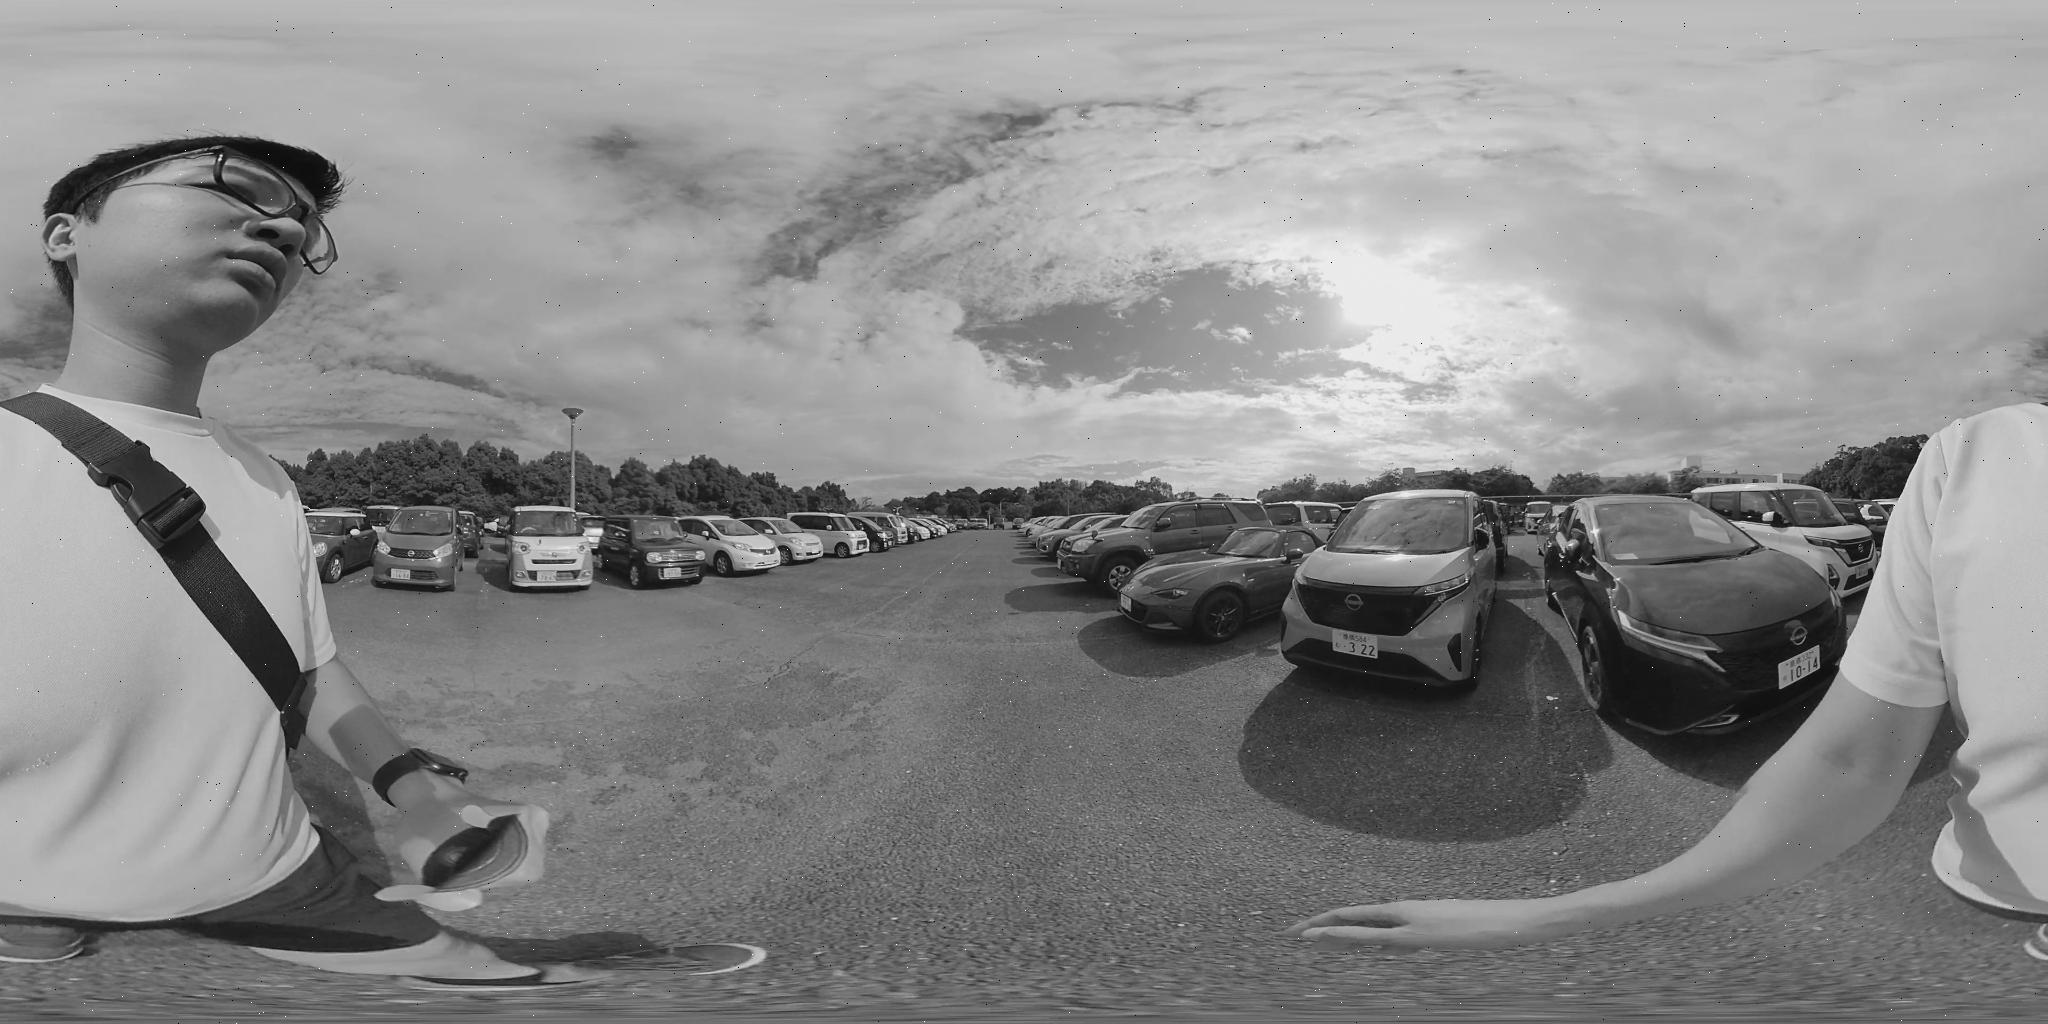car: (1540, 491, 1865, 735), (1289, 491, 1509, 694), (1112, 522, 1335, 643), (1044, 499, 1317, 593), (1689, 482, 1883, 579), (593, 517, 724, 589), (508, 509, 593, 596), (380, 505, 460, 586), (682, 517, 790, 573), (1031, 513, 1138, 568), (308, 509, 384, 584), (790, 516, 883, 558), (887, 519, 939, 543)
